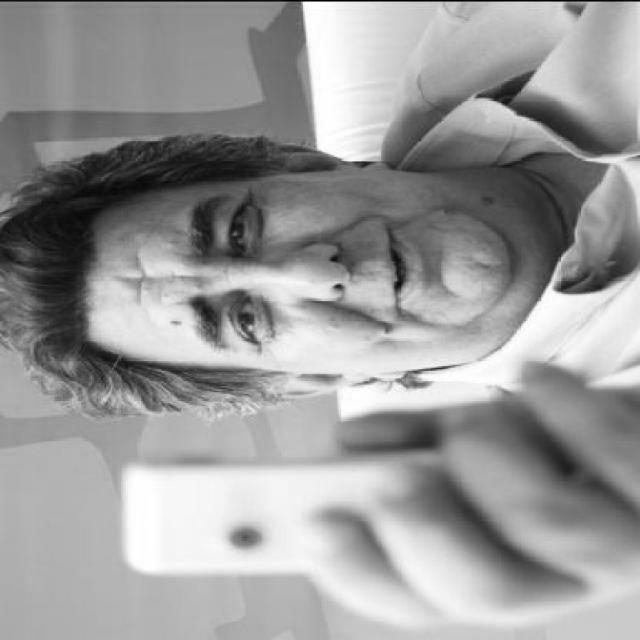fake: (118, 448, 468, 574)
real: (85, 168, 590, 380)
